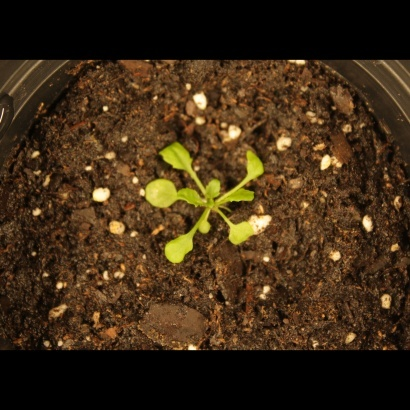leaf: (237, 140, 276, 185), (140, 173, 182, 213), (164, 227, 200, 268), (160, 140, 195, 175), (226, 214, 257, 250), (224, 181, 259, 210), (177, 185, 203, 209), (204, 178, 227, 201), (194, 213, 217, 236)
